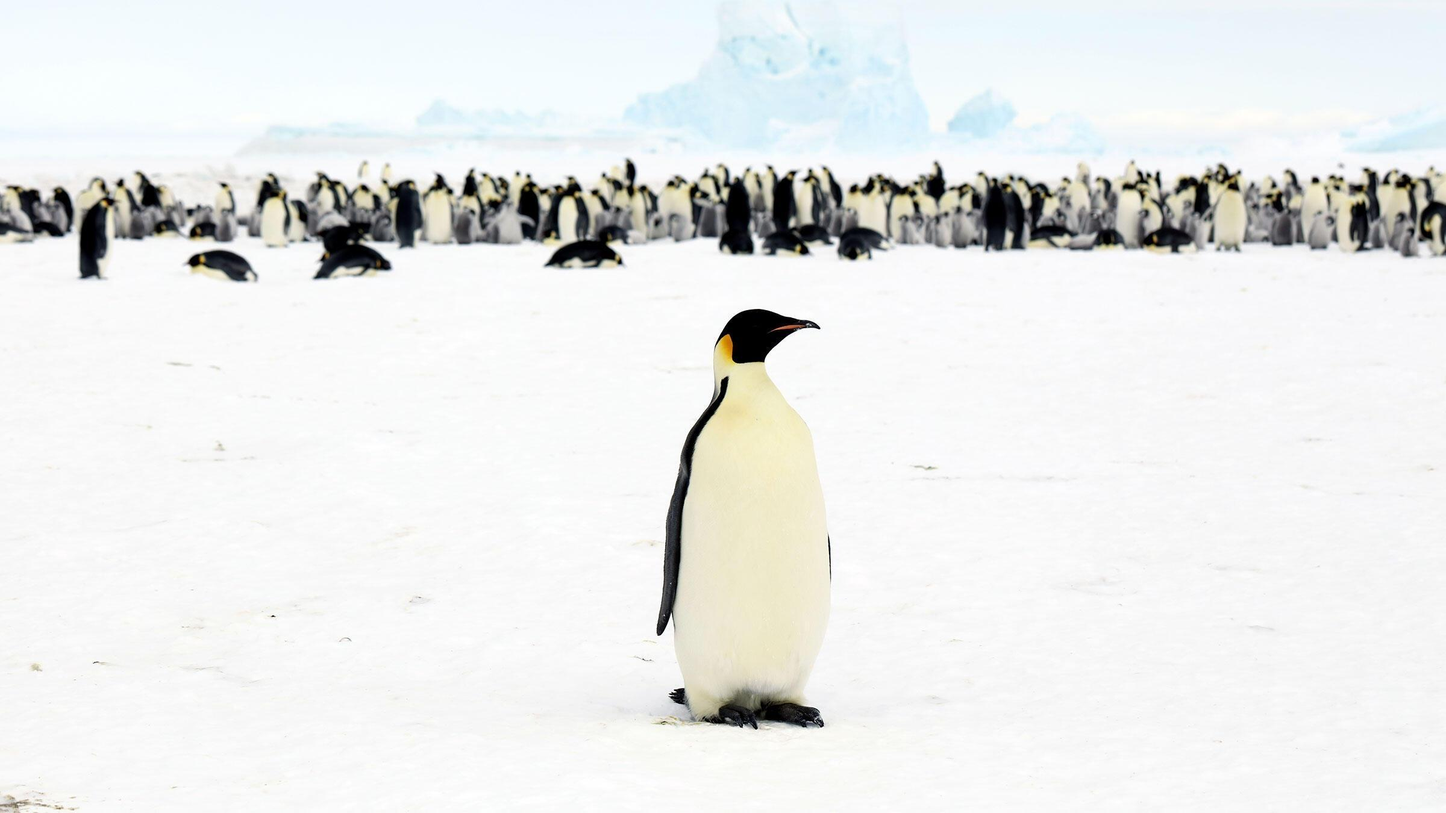Penguin: (658, 311, 830, 727), (78, 196, 122, 285), (1213, 164, 1249, 254), (390, 179, 433, 249), (252, 179, 292, 246), (315, 249, 390, 284), (184, 249, 255, 285), (487, 201, 535, 252), (422, 173, 457, 241), (542, 243, 627, 269), (27, 183, 60, 249), (1066, 158, 1099, 220), (1300, 174, 1328, 246), (835, 223, 892, 258), (556, 190, 592, 243), (1333, 194, 1366, 251), (116, 177, 145, 240), (1138, 226, 1198, 255), (887, 184, 919, 238), (773, 167, 802, 226), (1114, 185, 1142, 246), (984, 178, 1007, 250), (7, 184, 35, 243), (318, 222, 376, 249), (1384, 178, 1408, 241), (1194, 170, 1215, 241), (311, 172, 342, 220), (863, 176, 888, 235), (718, 210, 750, 255), (1002, 187, 1025, 246), (287, 199, 316, 245), (519, 175, 540, 238), (456, 170, 484, 217), (1376, 167, 1403, 214), (625, 184, 647, 241), (800, 175, 825, 225), (603, 172, 629, 219), (1418, 205, 1445, 250), (765, 229, 807, 257), (818, 166, 843, 211), (210, 205, 237, 245), (348, 184, 380, 217), (133, 169, 160, 208), (794, 222, 833, 249), (52, 184, 73, 234), (1283, 166, 1308, 208), (1306, 213, 1335, 248), (724, 175, 750, 213), (549, 184, 565, 245), (1138, 192, 1163, 231), (597, 222, 638, 245), (673, 177, 693, 222), (927, 208, 950, 247), (81, 177, 108, 210), (656, 181, 682, 215), (1362, 170, 1379, 222), (1278, 207, 1299, 249), (1411, 178, 1432, 220), (1050, 229, 1095, 248), (914, 180, 939, 214), (461, 205, 482, 245), (479, 173, 507, 203), (831, 203, 857, 235), (1262, 174, 1288, 206), (532, 188, 552, 229), (187, 219, 221, 243), (1163, 187, 1184, 225), (1086, 227, 1125, 247), (966, 207, 985, 248), (148, 217, 183, 239), (701, 168, 723, 203), (1092, 175, 1114, 210), (950, 205, 969, 245), (762, 164, 778, 210), (213, 178, 235, 211), (1426, 170, 1445, 208), (845, 182, 865, 218), (589, 188, 610, 222), (1254, 201, 1280, 228), (898, 212, 920, 243), (334, 182, 354, 216), (375, 213, 396, 244), (1389, 213, 1410, 243), (671, 213, 691, 241), (509, 172, 527, 203), (939, 182, 960, 208), (1328, 177, 1344, 210), (1016, 175, 1033, 205), (1371, 214, 1386, 248), (757, 211, 777, 236), (1143, 170, 1160, 199), (978, 170, 993, 201), (649, 211, 666, 238), (1401, 228, 1418, 252), (1075, 205, 1094, 226), (716, 161, 731, 186), (1022, 211, 1033, 245), (1033, 180, 1056, 195), (878, 176, 893, 194), (1250, 230, 1274, 241)
